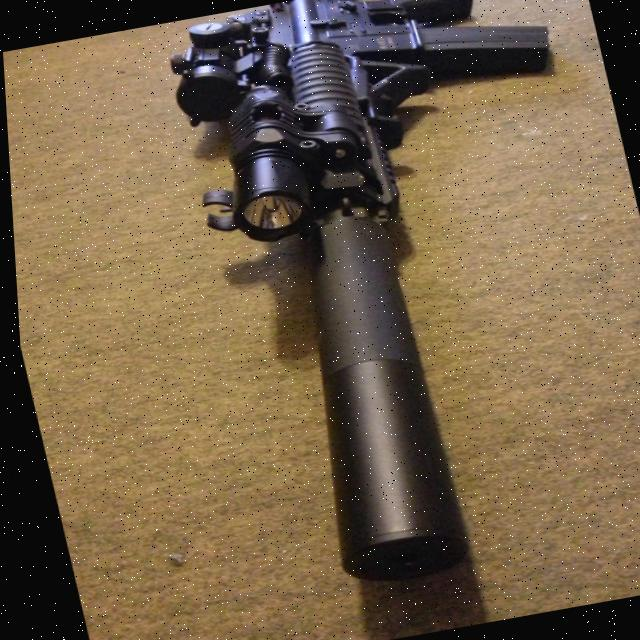firearm: (151, 0, 640, 600)
